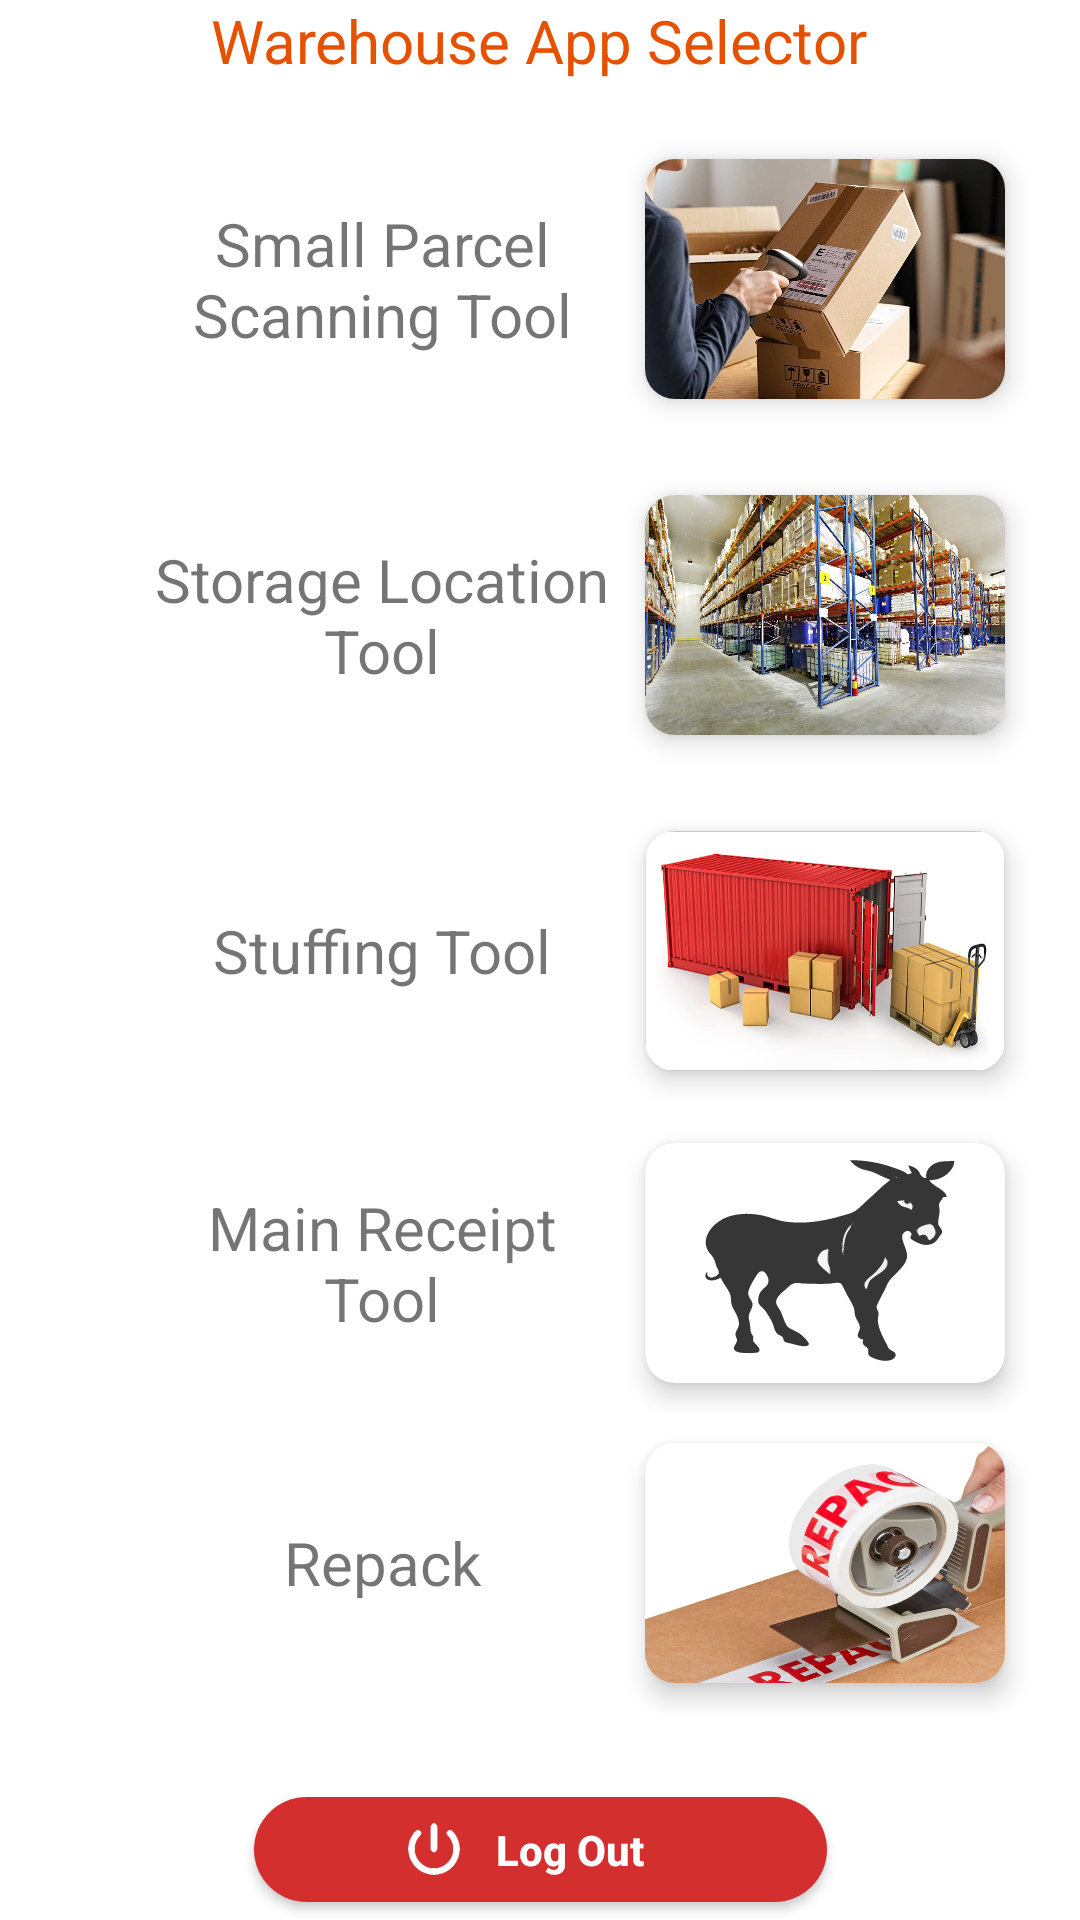

Icon click points for this 1080x1920 phone screenshot, format [x,y]:
themule: [800,1262]
